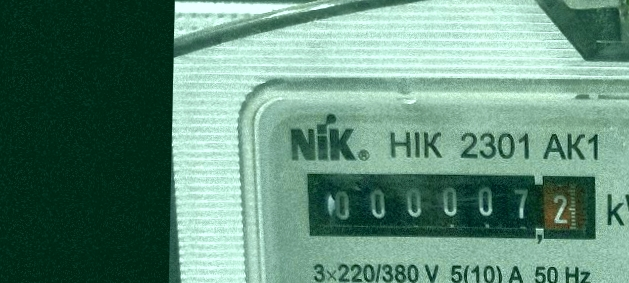0: (401, 183, 425, 221), (330, 186, 353, 222), (473, 182, 495, 219), (439, 184, 460, 221), (367, 185, 388, 220)
2: (549, 191, 571, 227)
7: (509, 184, 531, 222)
screen: (299, 163, 605, 249)
